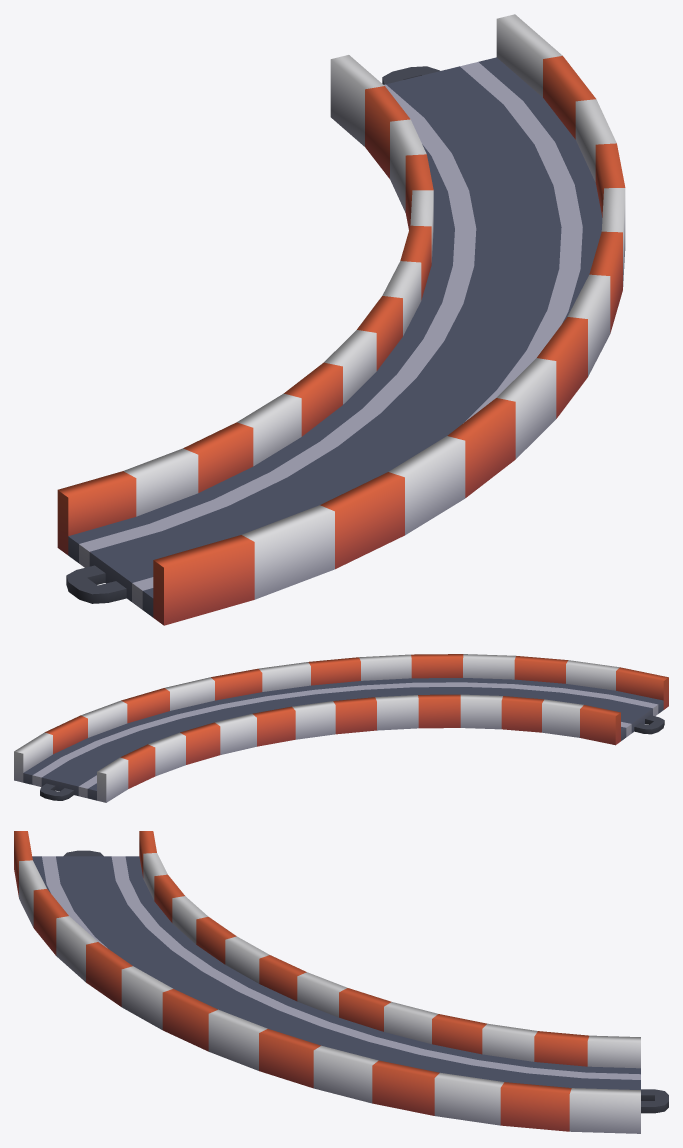
File: track-road-narrow-corner-large.glb
3 views of the same model, one above another, from view 1: azimuth 30°, elevation 25°; view 2: azimuth 150°, elevation 25°; view 3: azimuth 270°, elevation 25° (orthographic). The views are drawn at different scales.
Parts seen in each view (by area): view 1: track-road-narrow-corner-large; view 2: track-road-narrow-corner-large; view 3: track-road-narrow-corner-large.
Boxes of the visible parts, left/top/right/bottom form: track-road-narrow-corner-large: left=57, top=14, right=625, bottom=625; track-road-narrow-corner-large: left=14, top=654, right=668, bottom=802; track-road-narrow-corner-large: left=14, top=831, right=668, bottom=1133.
Size of the model in its own units: 4.7 by 0.3 by 4.7.
